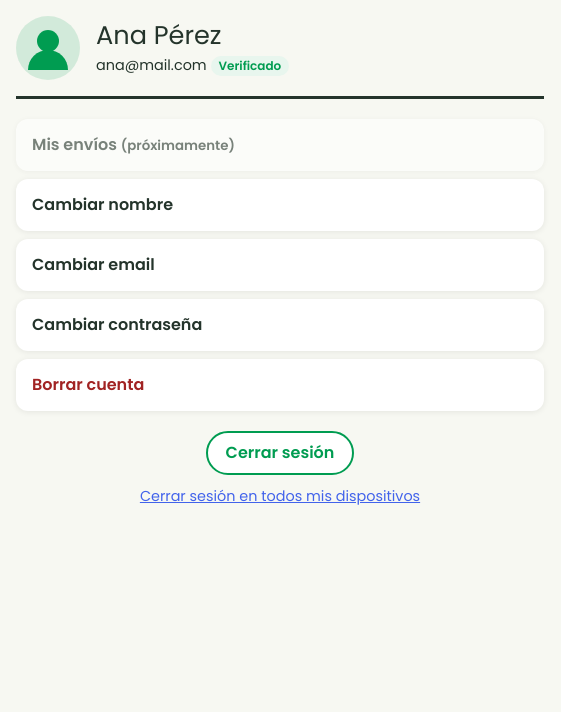
Test case: MiCuenta (RF-01, RF-24, RF-25) › cambiar el nombre actualiza lo que se muestra (RF-25)
The image size is (561, 712).
Click the heading "Cambiar nombre" at (103, 204), box [32,193,173,216]
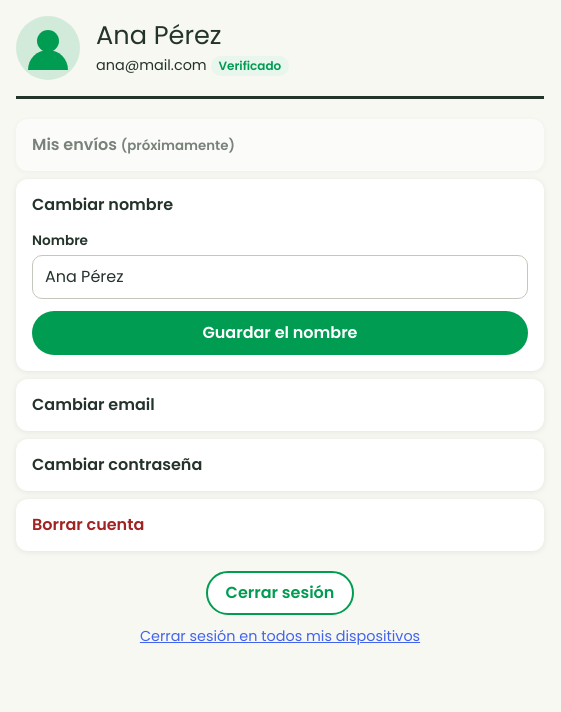
Replace the text in the field labelled "Nombre" with " Ana María Pérez " at (280, 277), box [32,255,528,299]
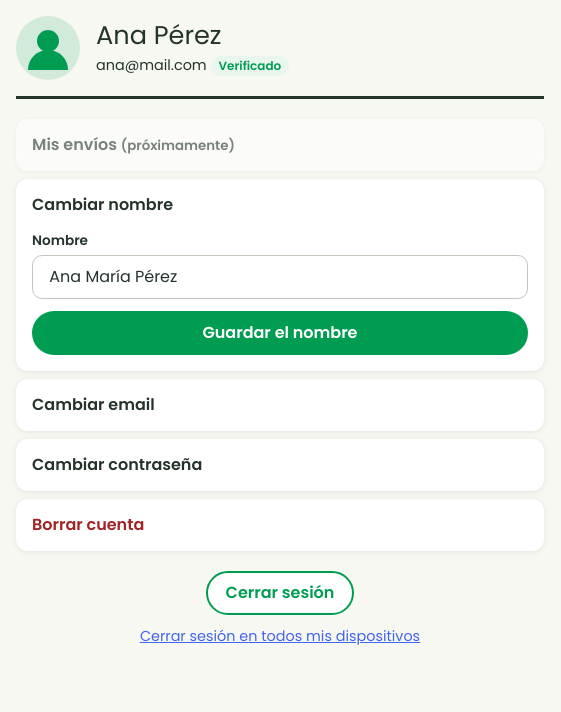
Click the button "Guardar el nombre" at (280, 333), box [32,311,528,355]
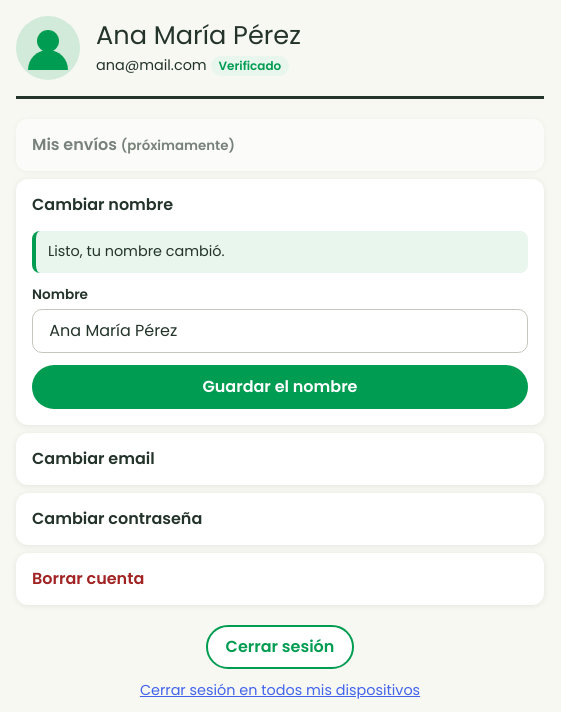
Expected: the heading "Ana María Pérez" is shown, [96,20,301,50]
